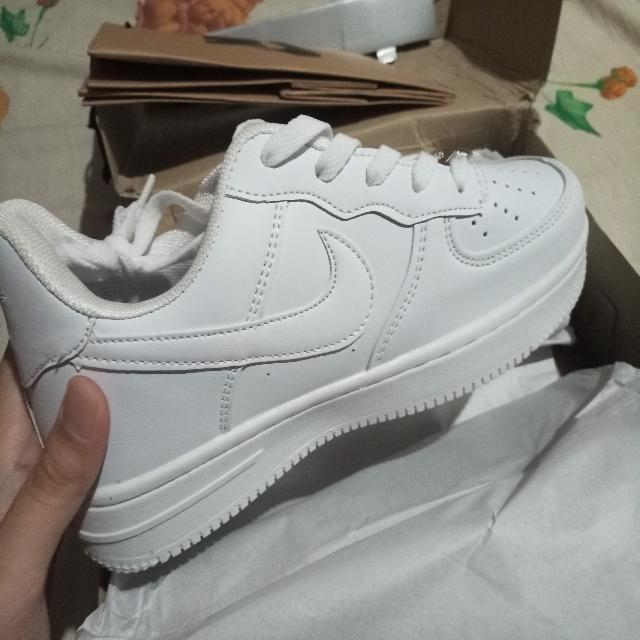nike fake air force: (0, 111, 591, 583)
